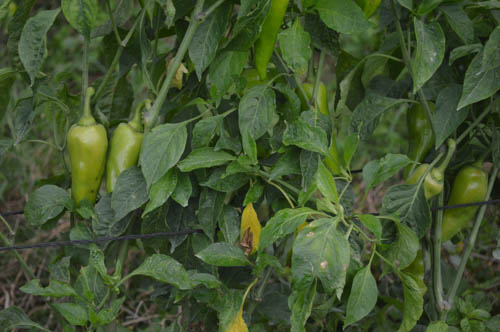ChiliPepper: (296, 76, 344, 178), (439, 155, 490, 251), (58, 118, 110, 212), (403, 91, 442, 183), (103, 115, 143, 198), (252, 1, 292, 83), (403, 162, 446, 209)
